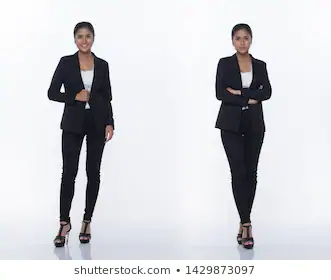S_W_pants: (57, 122, 108, 226), (220, 124, 265, 225)
